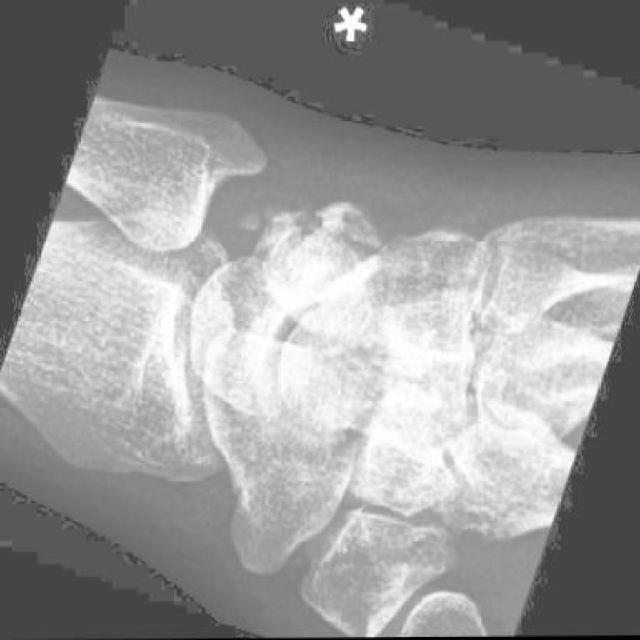Fracture: (272, 183, 406, 298)
